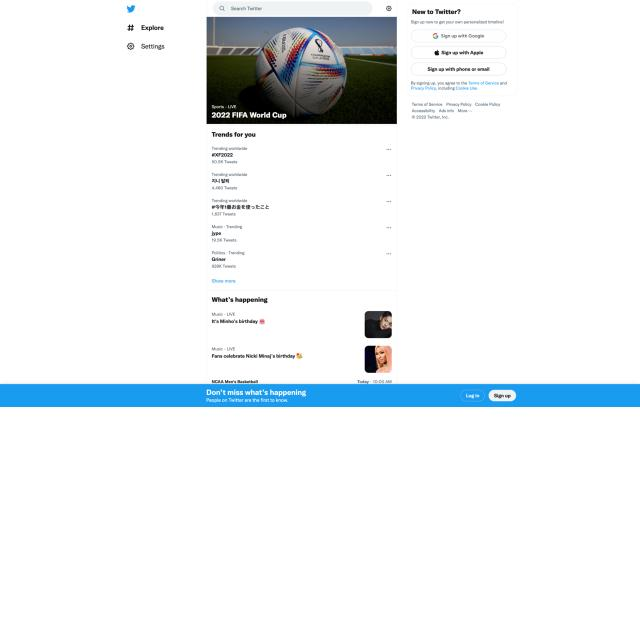CheckBox: (410, 46, 507, 60), (410, 62, 507, 76), (411, 29, 506, 42), (488, 389, 517, 402), (460, 389, 486, 402)
CheckedTextView: (212, 1, 372, 15)
QR code: (210, 142, 392, 272)
badge: (409, 98, 515, 121)
bag: (206, 0, 396, 17)
breadcrumbs: (411, 6, 461, 16)
carousel: (432, 32, 439, 40), (386, 5, 392, 12), (219, 5, 225, 12), (434, 49, 440, 56)
copy: (206, 17, 396, 124), (364, 346, 392, 374), (364, 311, 392, 338)
data feed: (426, 66, 492, 72), (440, 32, 484, 40), (440, 50, 484, 56), (493, 392, 512, 400), (465, 392, 480, 399)
date picker: (124, 4, 137, 14)
footer: (230, 6, 262, 12)
header: (0, 383, 640, 407)
